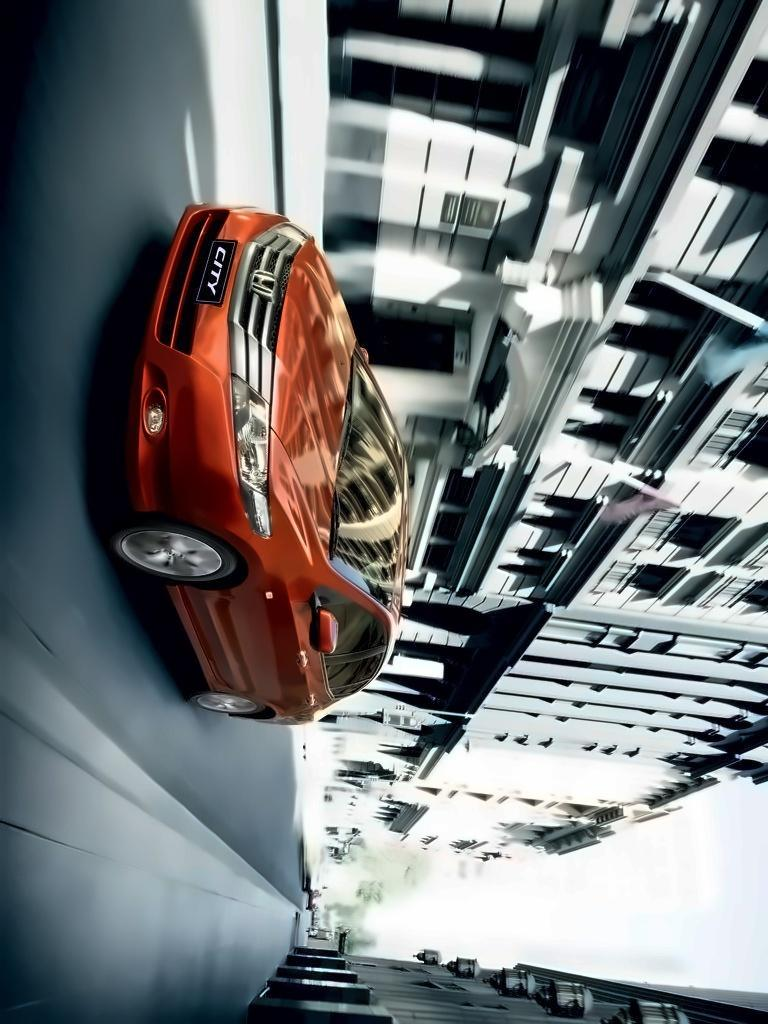Car hood: (267, 235, 359, 563)
Fender - -F-L-: (177, 428, 339, 597)
Front bumper: (119, 196, 253, 545)
Headlight - -L-: (225, 369, 277, 543)
Headlight - -R-: (262, 212, 318, 250)
Passenger-s door - -F-L-: (178, 596, 390, 670)
Passenger-s door - -R-L-: (207, 653, 389, 711)
Side bumper - -L-: (160, 576, 236, 698)
Side mirror - -L-: (305, 598, 343, 661)
Side mirror - -R-: (352, 338, 380, 375)
